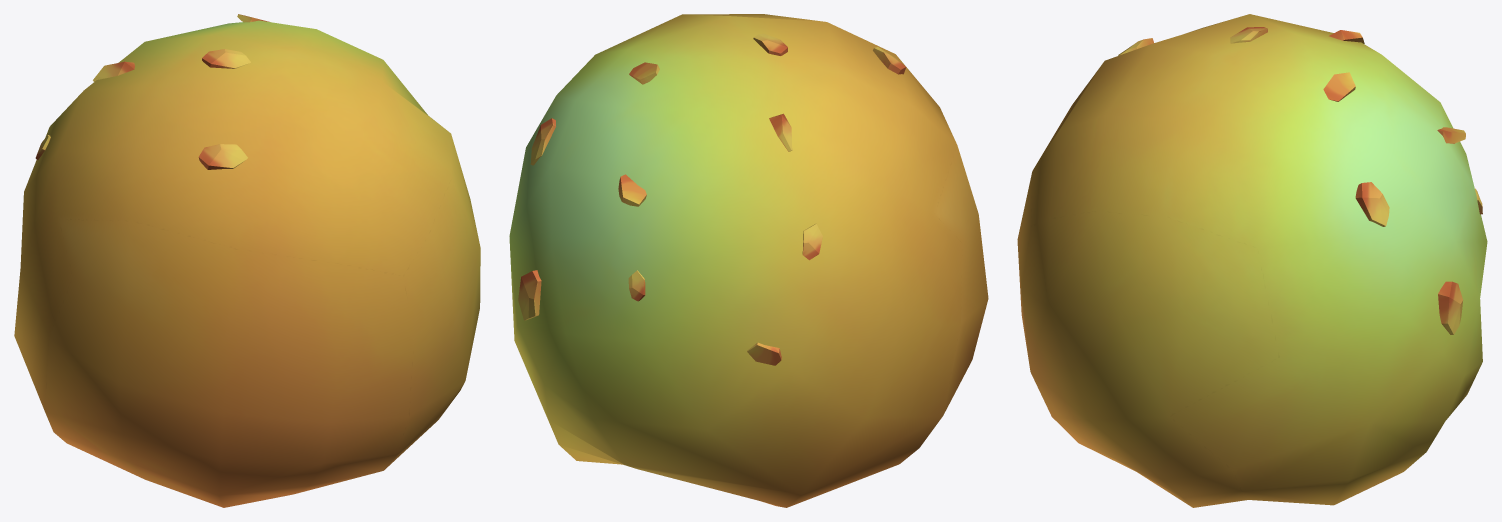
File: bocha_naranja.fbx
The picture shows the model from 3 angles, left to right: view 1: azimuth 30°, elevation 25°; view 2: azimuth 150°, elevation 25°; view 3: azimuth 270°, elevation 25°; orthographic projection. The views are drawn at different scales.
Visible parts, largest first — view 1: Retopo_Cube.007; view 2: Retopo_Cube.007; view 3: Retopo_Cube.007.
Part boxes in pixels (<box>): Retopo_Cube.007: <box>14,14,480,507</box>; Retopo_Cube.007: <box>509,14,988,507</box>; Retopo_Cube.007: <box>1017,14,1487,507</box>.
Bounding box in the file's own units: 172 × 160 × 170.
1 material, 1 textured.
